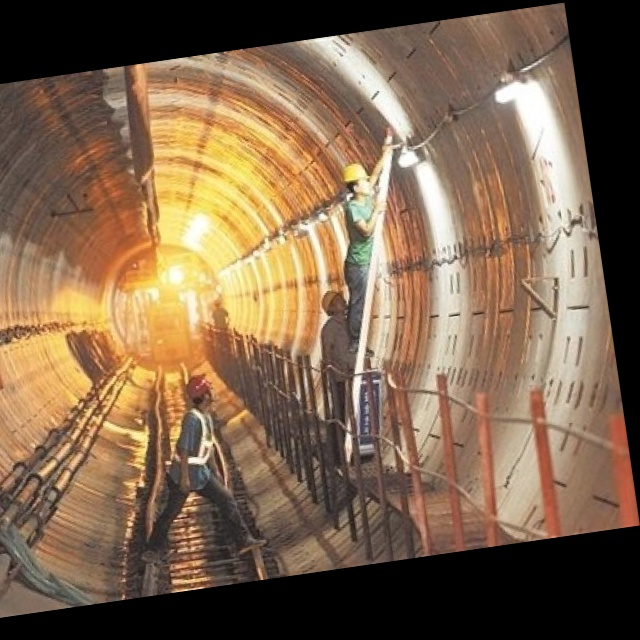Con_Casco: (342, 162, 372, 198), (319, 285, 349, 321), (184, 374, 212, 409)
